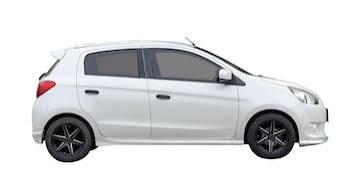car: (23, 41, 331, 159)
